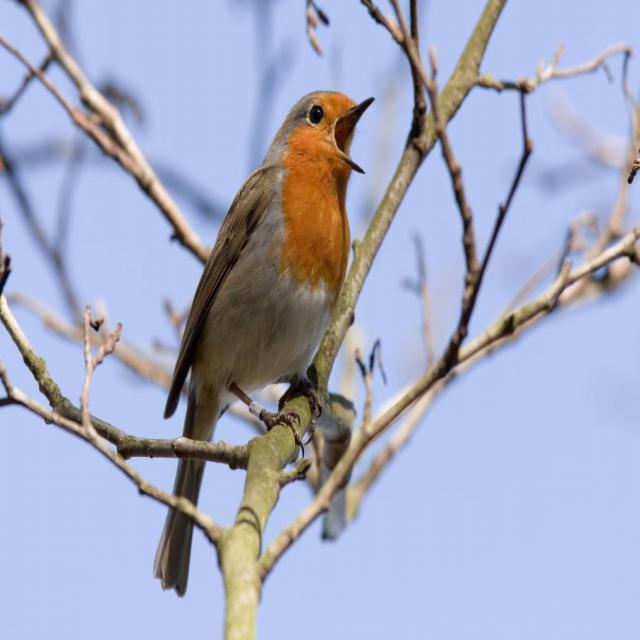bird: (120, 28, 392, 615)
